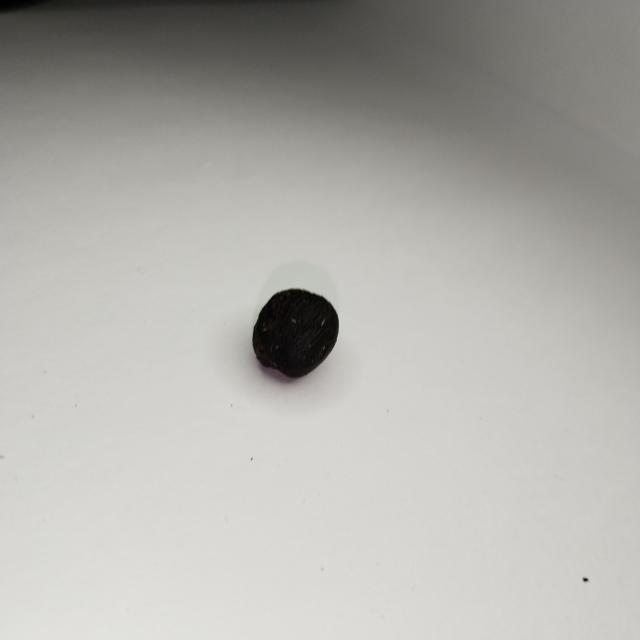Danado: (252, 289, 338, 378)
